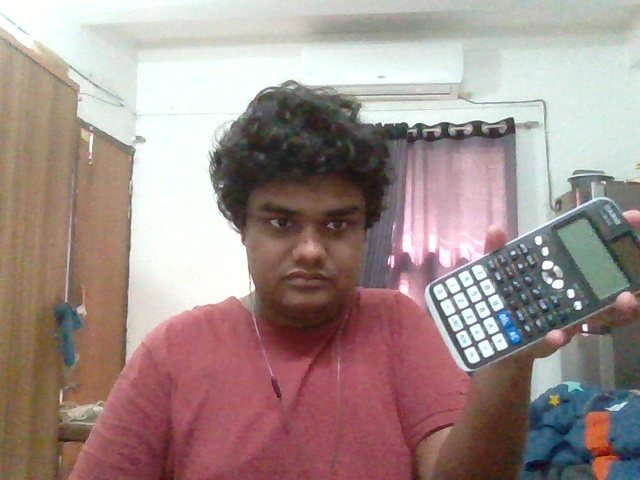calculator: (425, 197, 640, 370)
